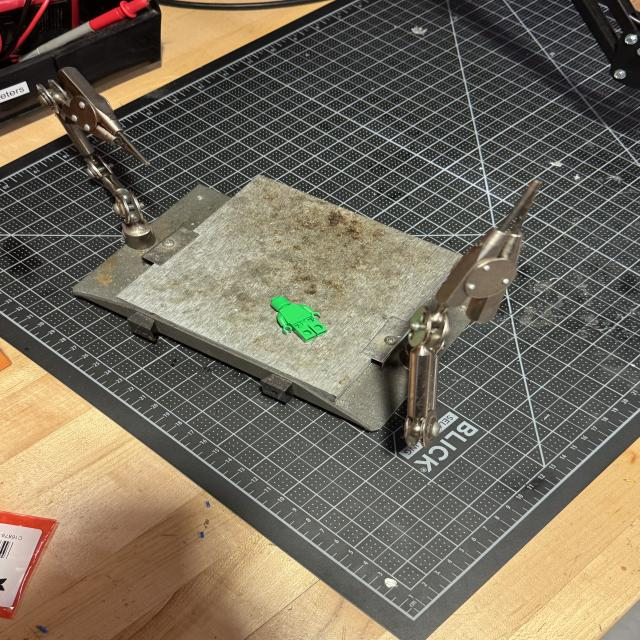Green Mini Figure: (271, 297, 327, 343)
